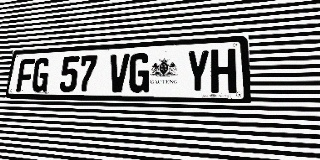5: (59, 56, 80, 92)
7: (76, 55, 98, 92)
F: (16, 58, 35, 92)
G: (128, 53, 151, 93), (31, 57, 51, 92)
H: (211, 48, 237, 93)
V: (108, 54, 130, 93)
Y: (185, 50, 210, 93)
